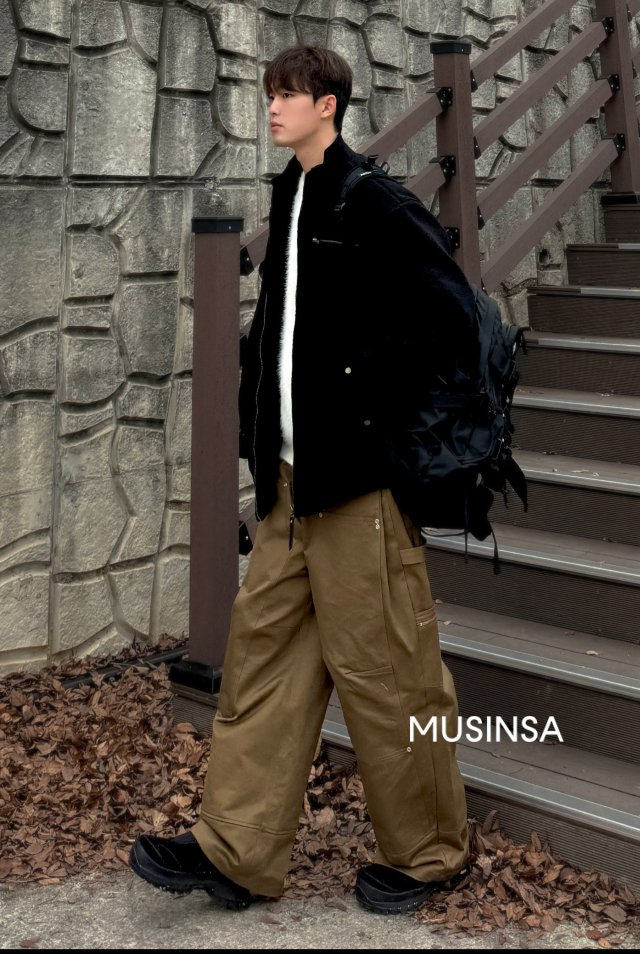Backpack: (414, 240, 514, 547)
Outer: (245, 145, 460, 499)
Pants: (206, 478, 492, 862)
Shoes: (125, 813, 481, 921)
